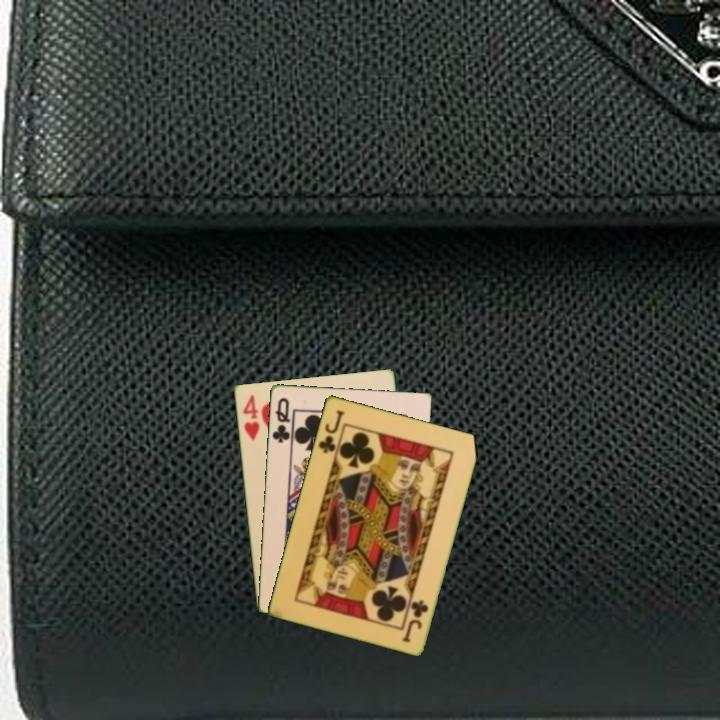4h: (239, 391, 262, 443)
Jc: (315, 406, 347, 456), (399, 596, 431, 645)
Qc: (268, 394, 293, 445)
